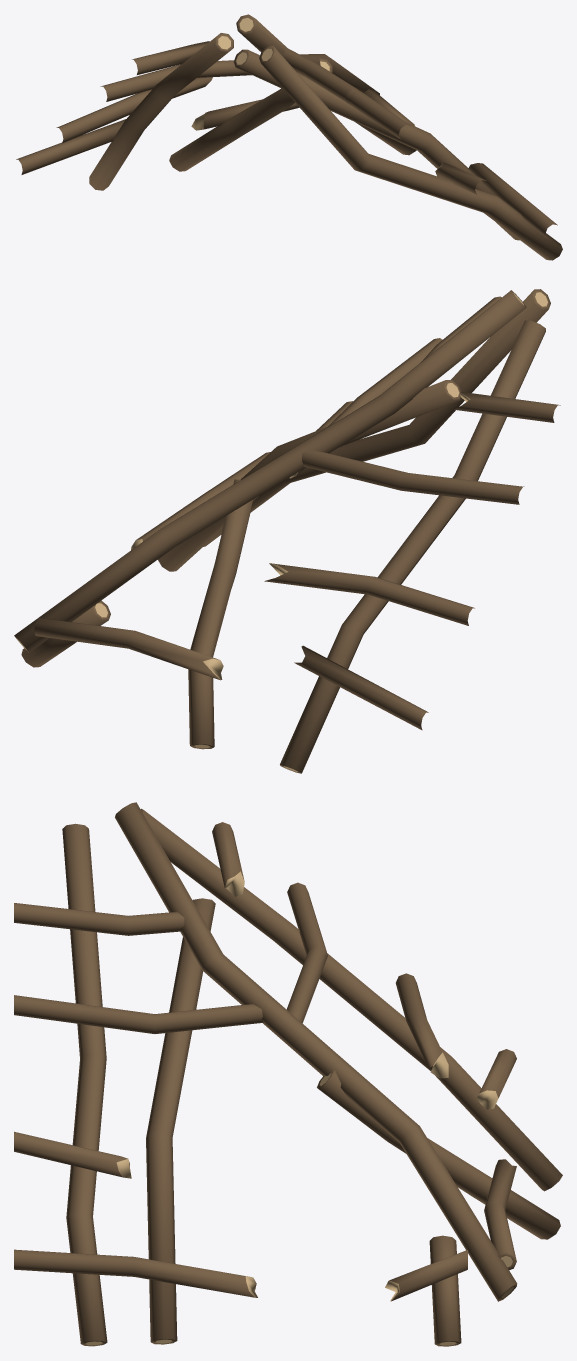
File: rpgpp_av_roof_support_01_9x4x3_corner_02a.gltf
The picture shows the model from 3 angles, top to bottom: view 1: azimuth 30°, elevation 25°; view 2: azimuth 150°, elevation 25°; view 3: azimuth 270°, elevation 25°; orthographic projection. The views are drawn at different scales.
Visible parts, largest first — view 1: rpgpp_av_roof_support_01_9x4x3_corner_02a; view 2: rpgpp_av_roof_support_01_9x4x3_corner_02a; view 3: rpgpp_av_roof_support_01_9x4x3_corner_02a.
Part boxes in pixels (left/top/right/bottom): rpgpp_av_roof_support_01_9x4x3_corner_02a: left=16, top=14, right=562, bottom=260; rpgpp_av_roof_support_01_9x4x3_corner_02a: left=14, top=289, right=560, bottom=773; rpgpp_av_roof_support_01_9x4x3_corner_02a: left=14, top=802, right=562, bottom=1346.
Size of the model in its own units: 0.064 by 0.0494 by 0.0658.
1 material, 1 textured.
